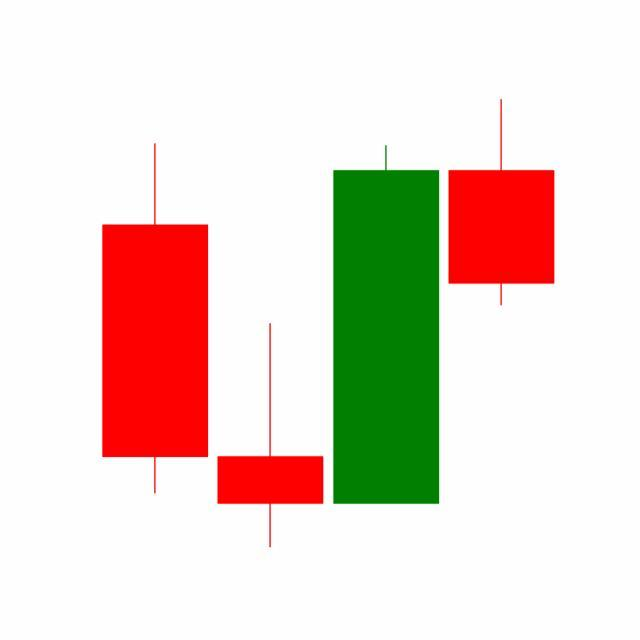Marubozu: (329, 143, 445, 509)
